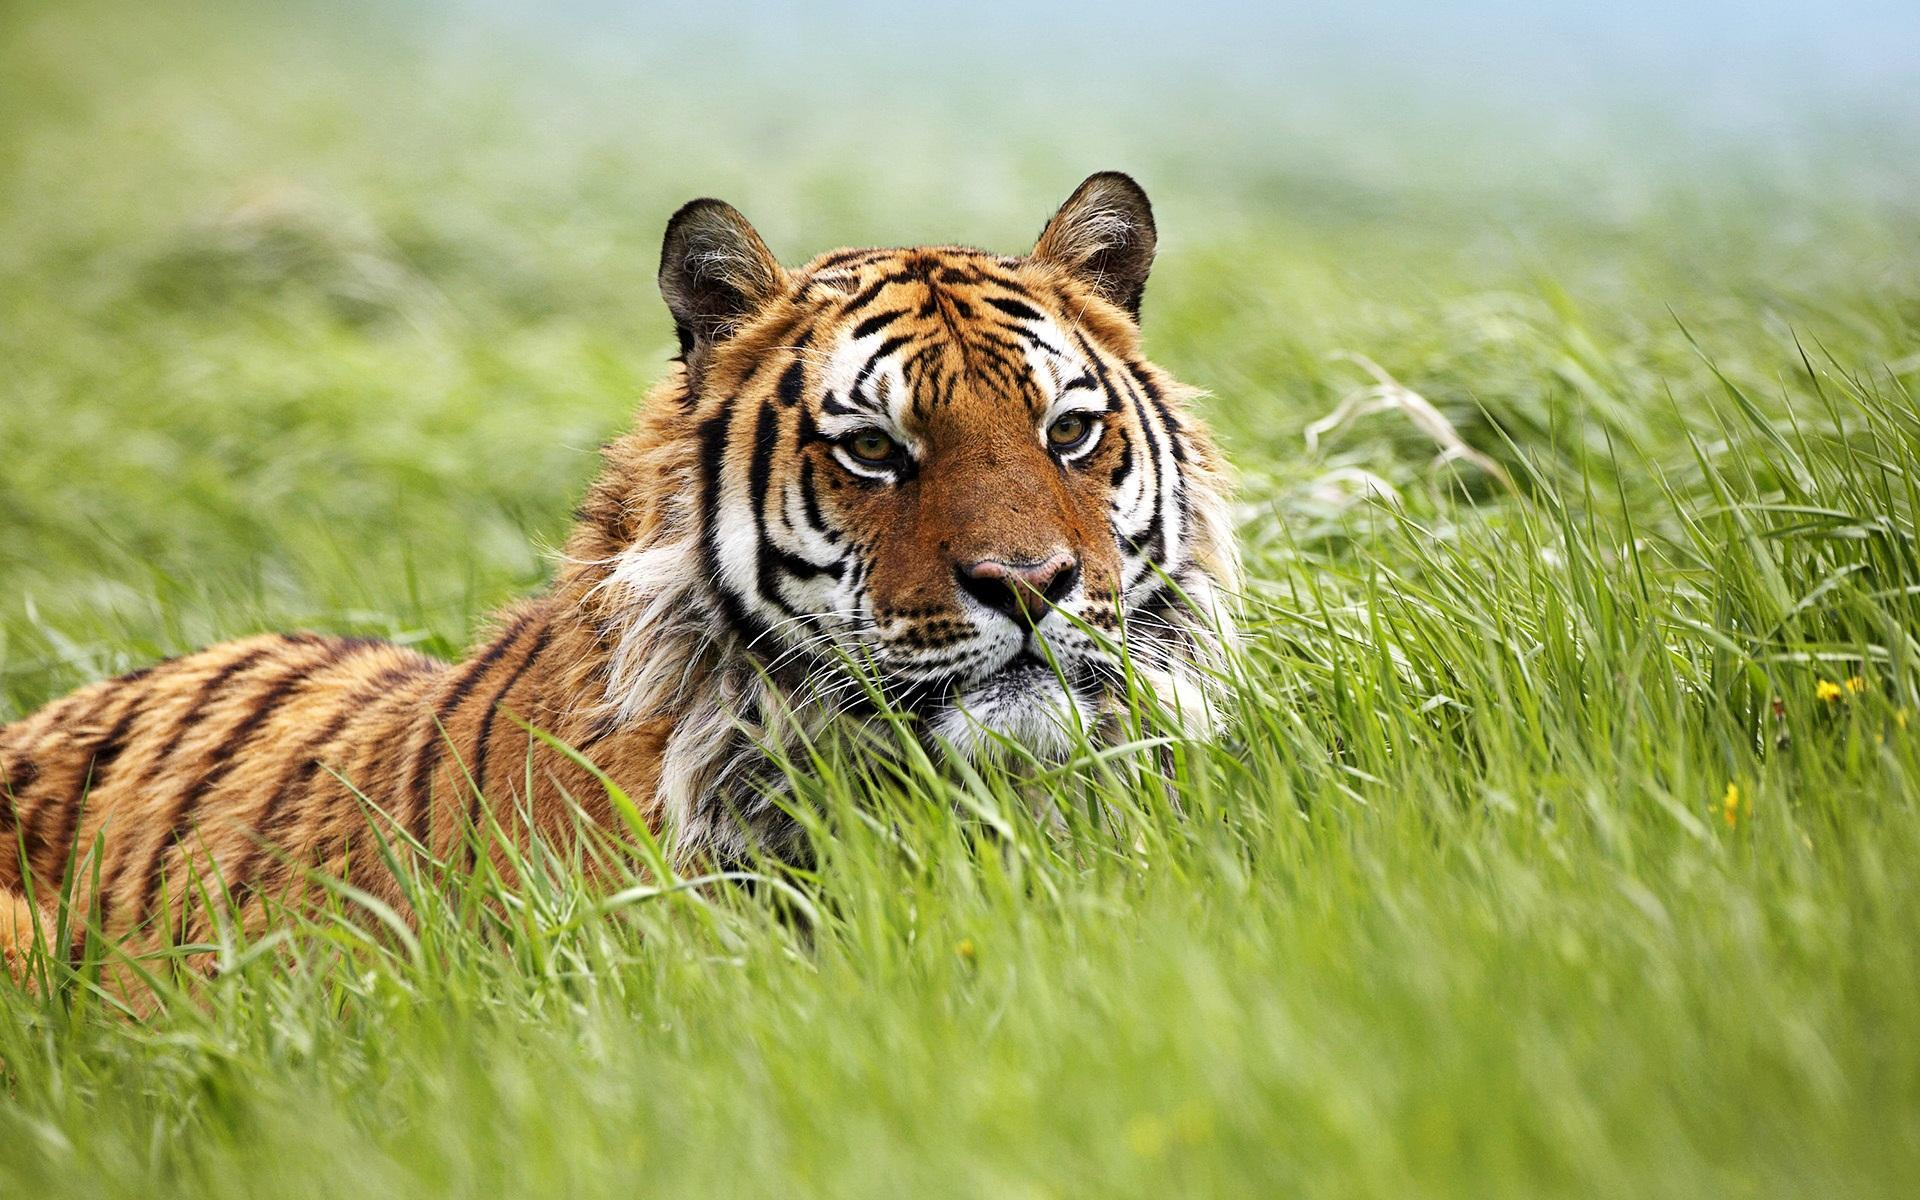Tigrew: (65, 112, 1269, 1004)
